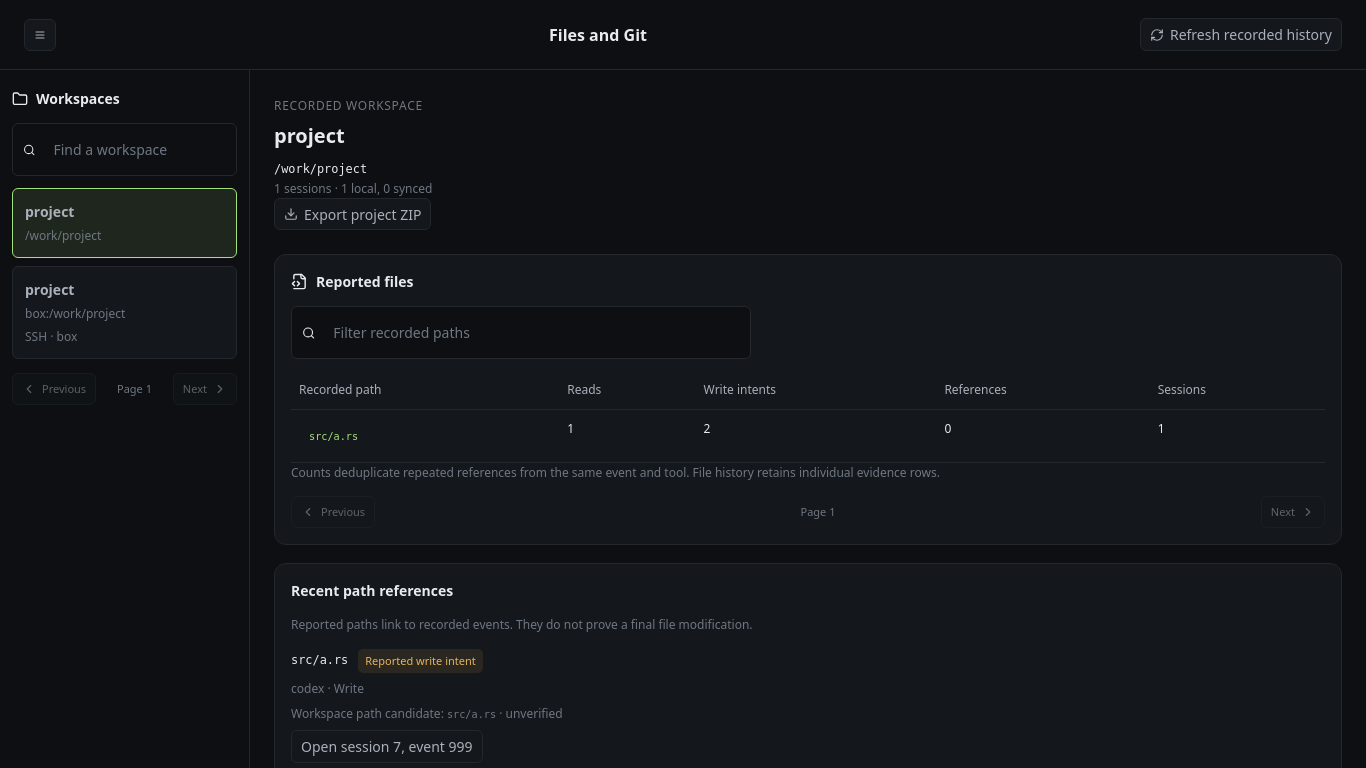
Test case: remote and synced-only workspaces disable local inspection
The width and height of the screenshot is (1366, 768).
Click the button "project box:/work/project SSH · box".
click(124, 312)  # box 12,266 -> 237,359
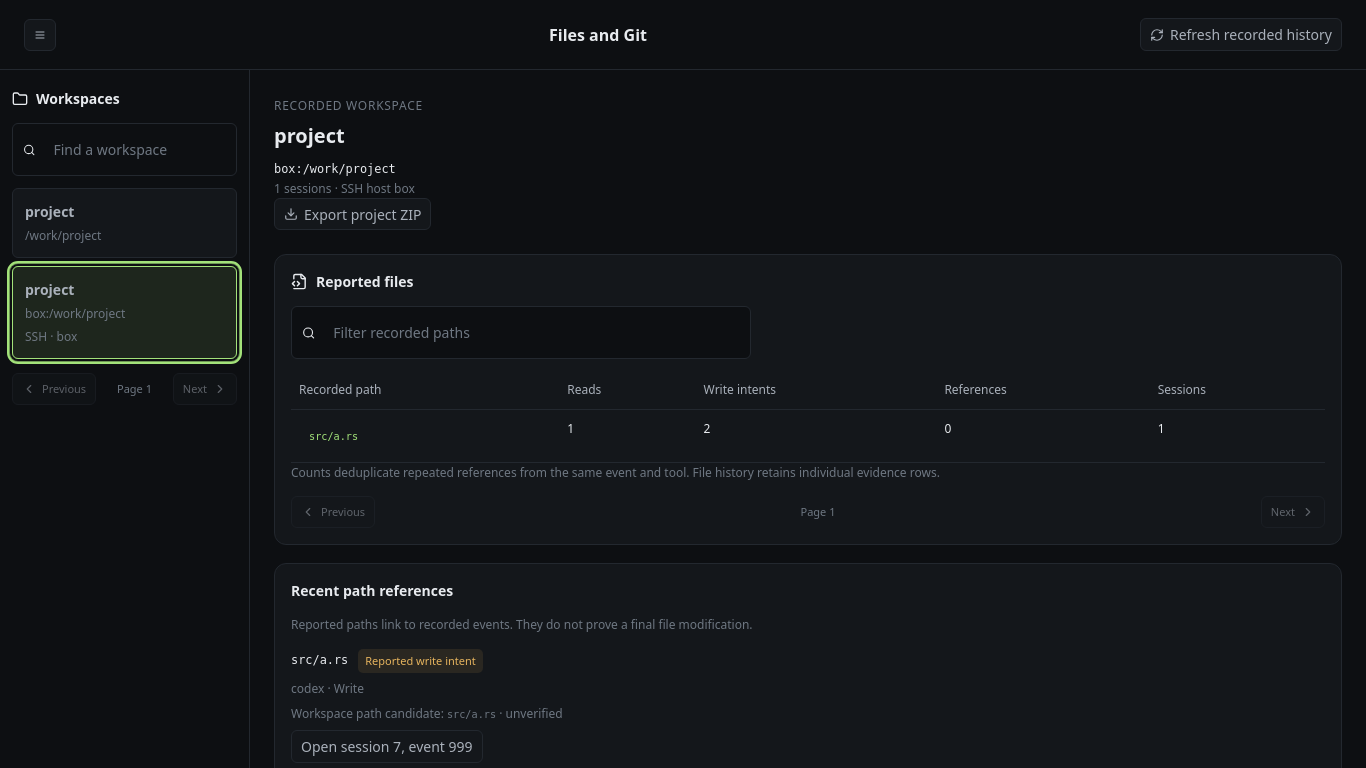
Check: the text "SSH host box" is shown, box 341,180 -> 415,197
